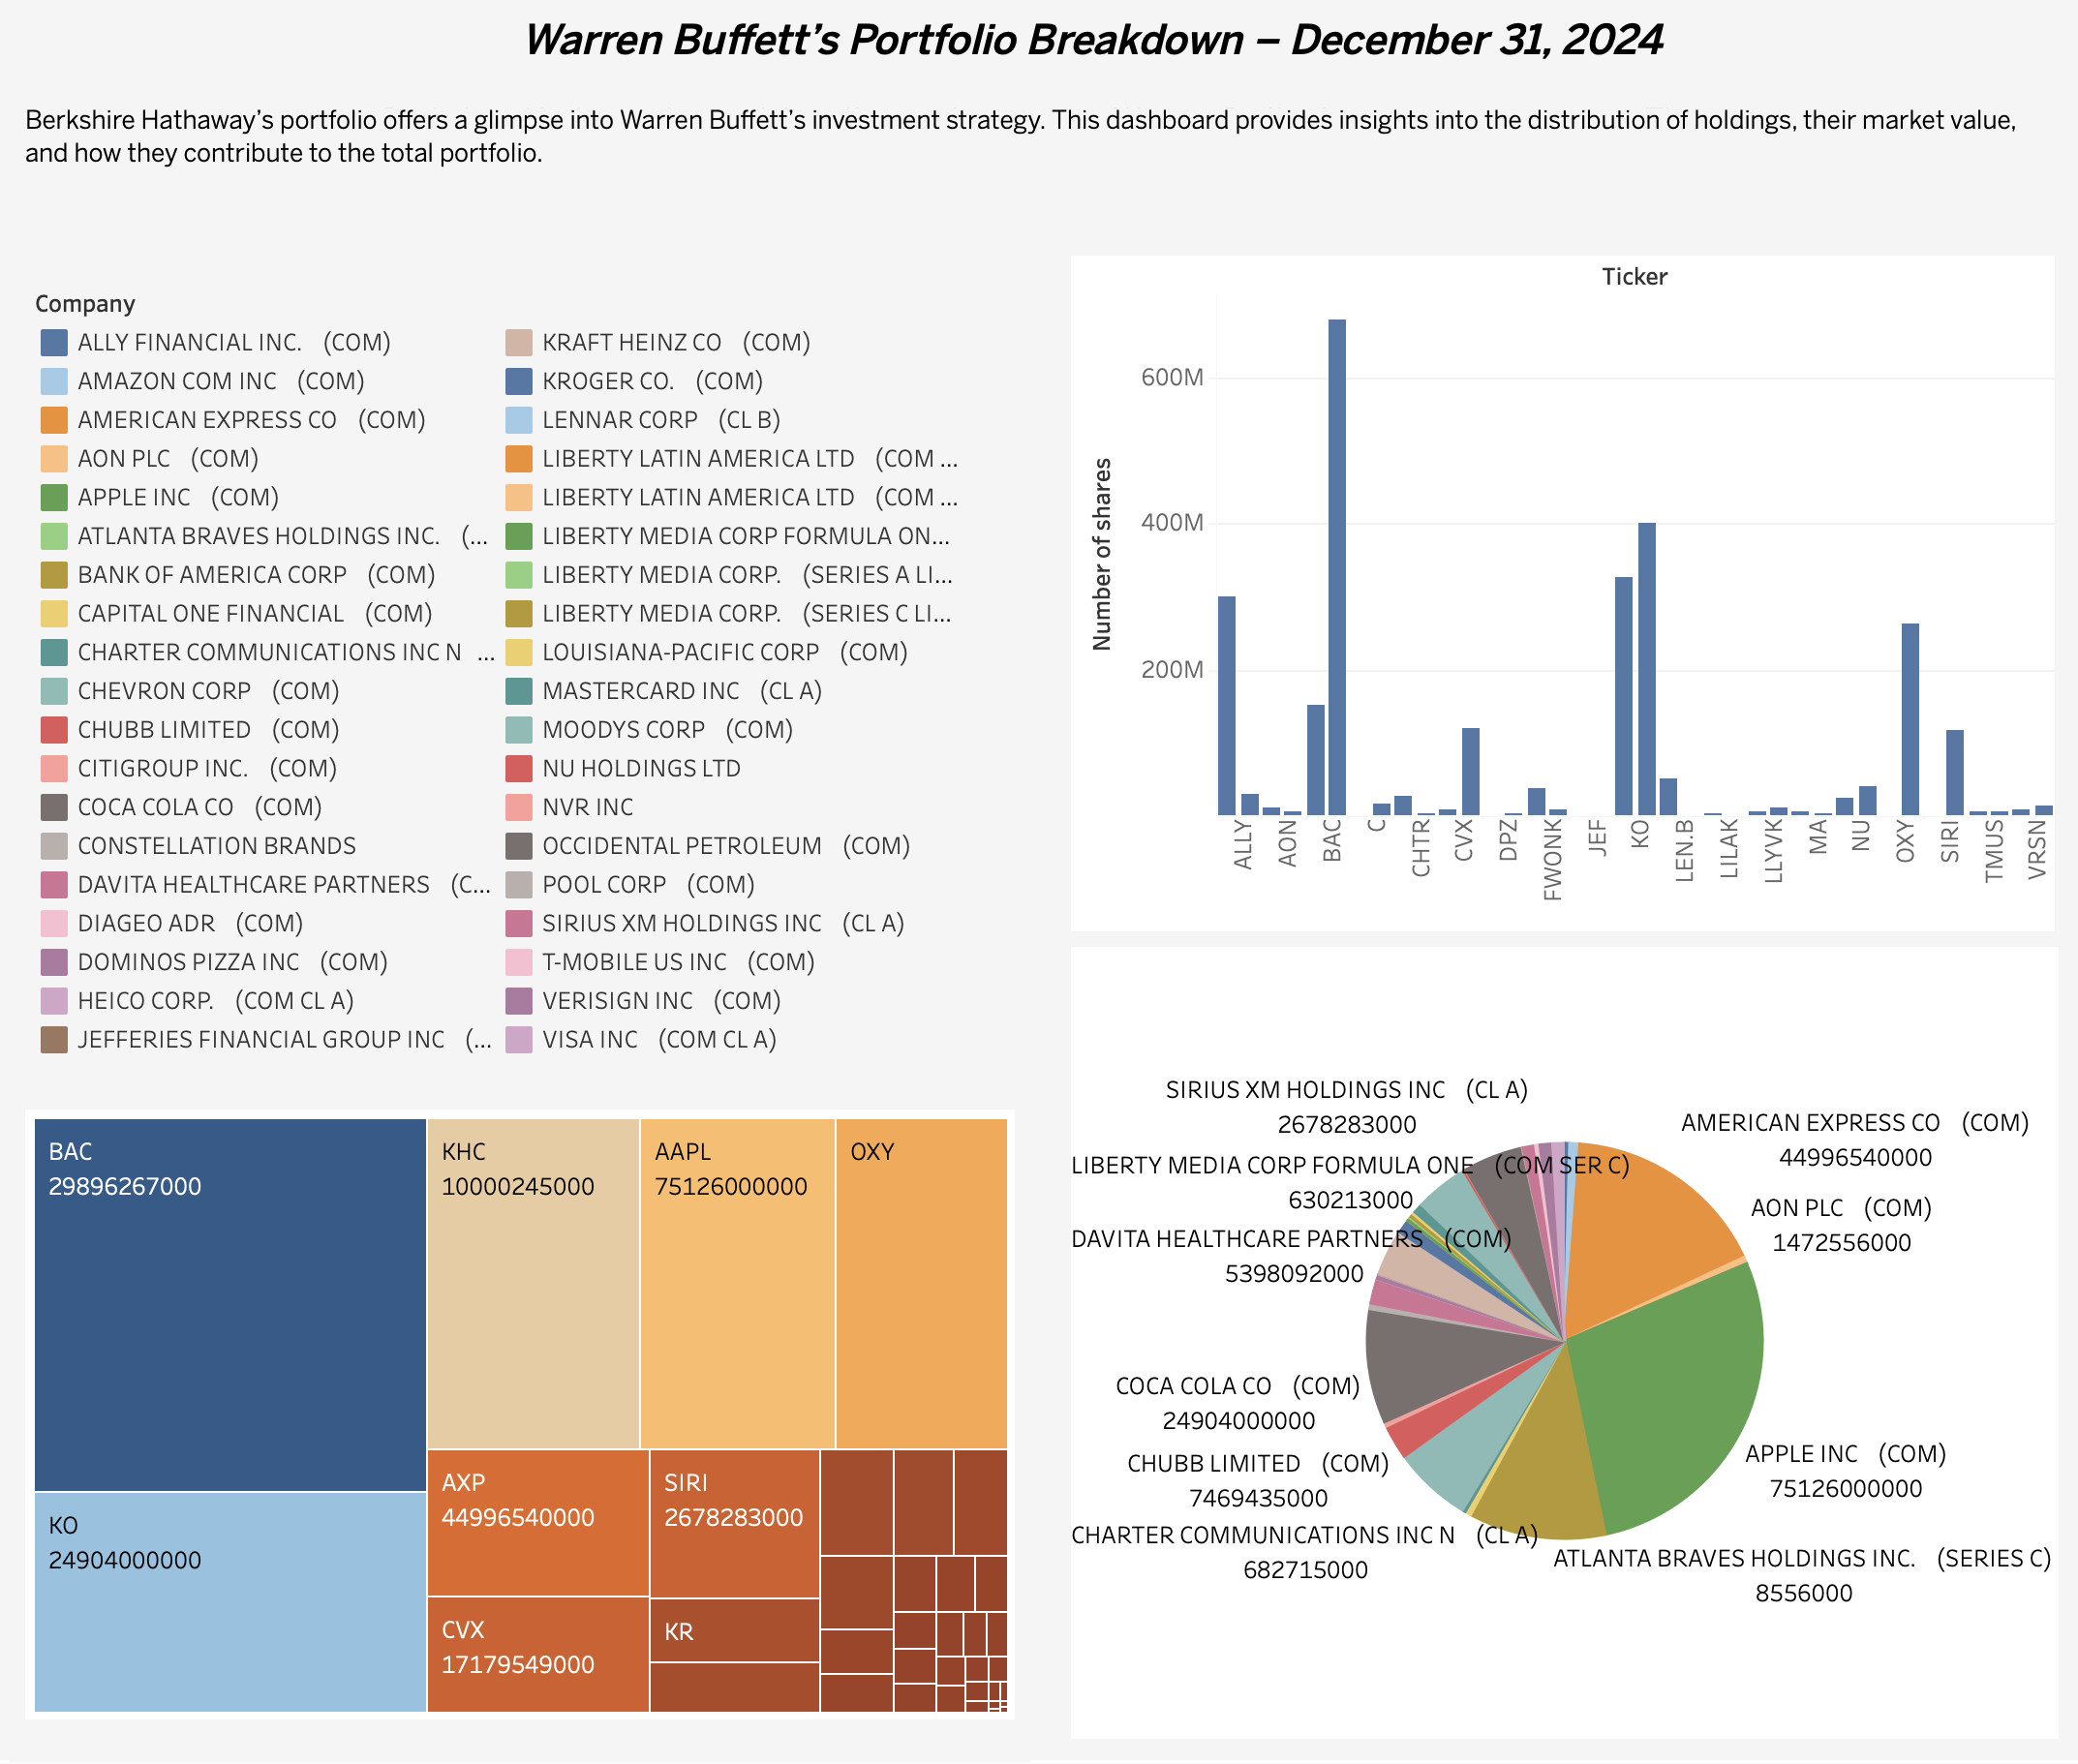

What the dashboard file says about the page in this screenshot:
{"tool":"tableau","page":{"name":"Dashboard 1","canvas":[1000,1000],"units":"permille","ordinal":0},"visuals":[{"type":"text","box":[185.2,17.6,679.6,52.7]},{"type":"text","box":[14.8,49.4,971.3,72.5]},{"type":"worksheet","title":"Sheet 3","mark":"Bar","rows":["Number of shares"],"cols":["Ticker"],"box":[507.4,143.8,486.1,397.4]},{"type":"legend","title":"Sheet 1","param":"[federated.06i9kqo1iozxsp15ffxf807xcdlq].[none:Company:nk]","box":[12,161.4,487,462.1]},{"type":"worksheet","title":"Sheet 1","mark":"Pie","box":[507.4,530.2,487,465.4]}]}

Visuals, with their boxes on the dashboard's canvas, which has no fixed pixel size, in thousandths of its width and height (x1, y1, x2, y2). These are canvas units, not pixel positions in the 2078x1764 screenshot, which may show the page scaled, cropped or inside an application window:
text: [left=185, top=18, right=865, bottom=70]
text: [left=15, top=49, right=986, bottom=122]
"Sheet 3" worksheet (Bar marks): [left=507, top=144, right=994, bottom=541]
"Sheet 1" legend: [left=12, top=161, right=499, bottom=624]
"Sheet 1" worksheet (Pie marks): [left=507, top=530, right=994, bottom=996]
